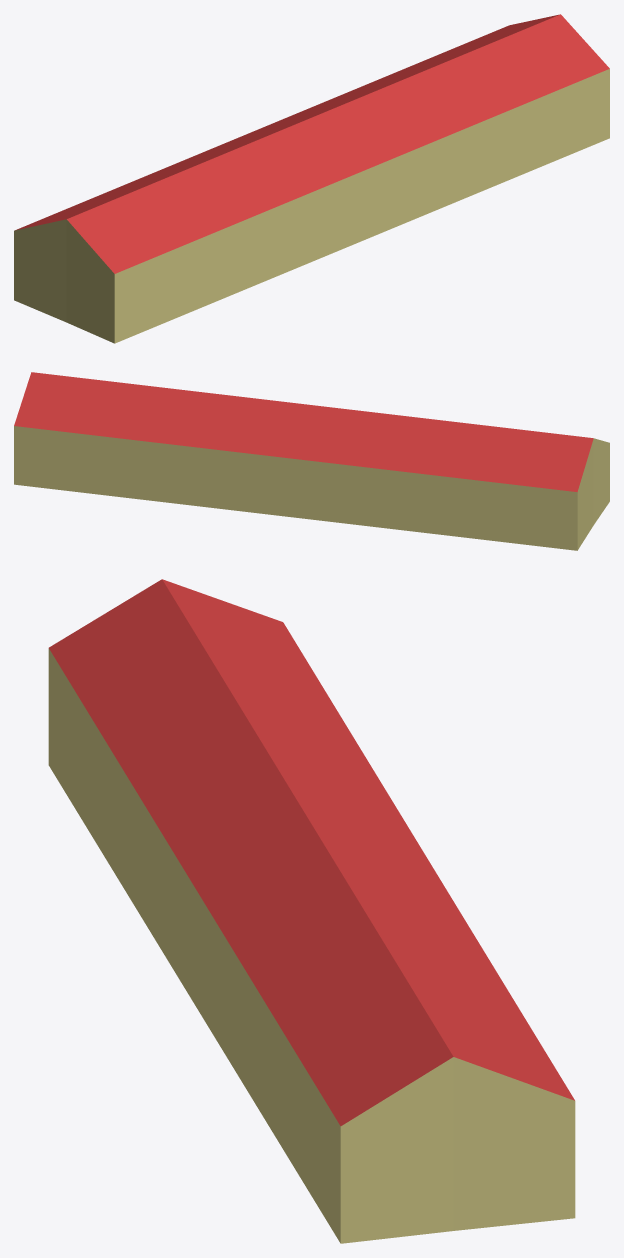
3 views of the same model, one above another, from view 1: azimuth 30°, elevation 25°; view 2: azimuth 150°, elevation 25°; view 3: azimuth 270°, elevation 25° (orthographic). The views are drawn at different scales.
Size of the model in its own units: 39.32 by 17.36 by 6.33.
